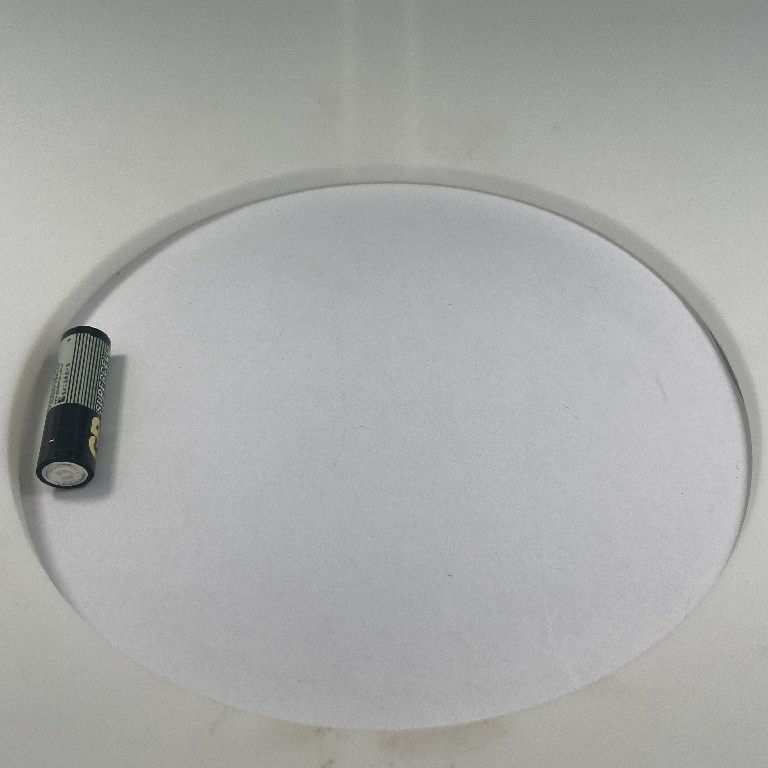charge: (31, 322, 121, 495)
